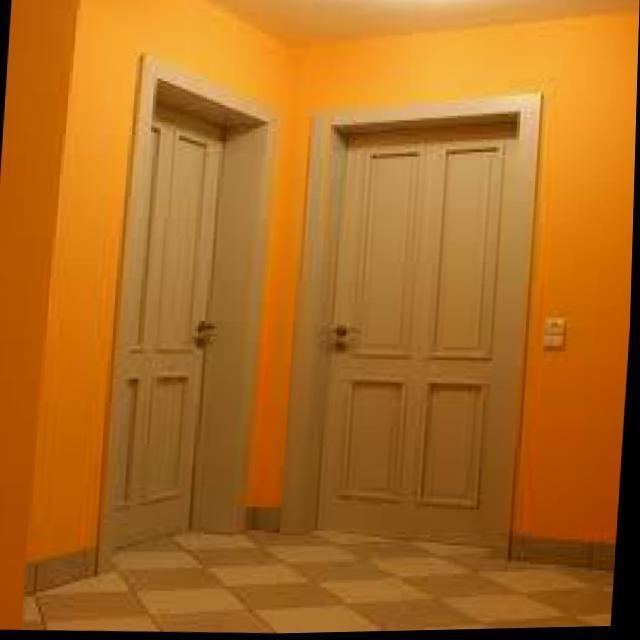door: (276, 92, 542, 558), (94, 49, 278, 576)
